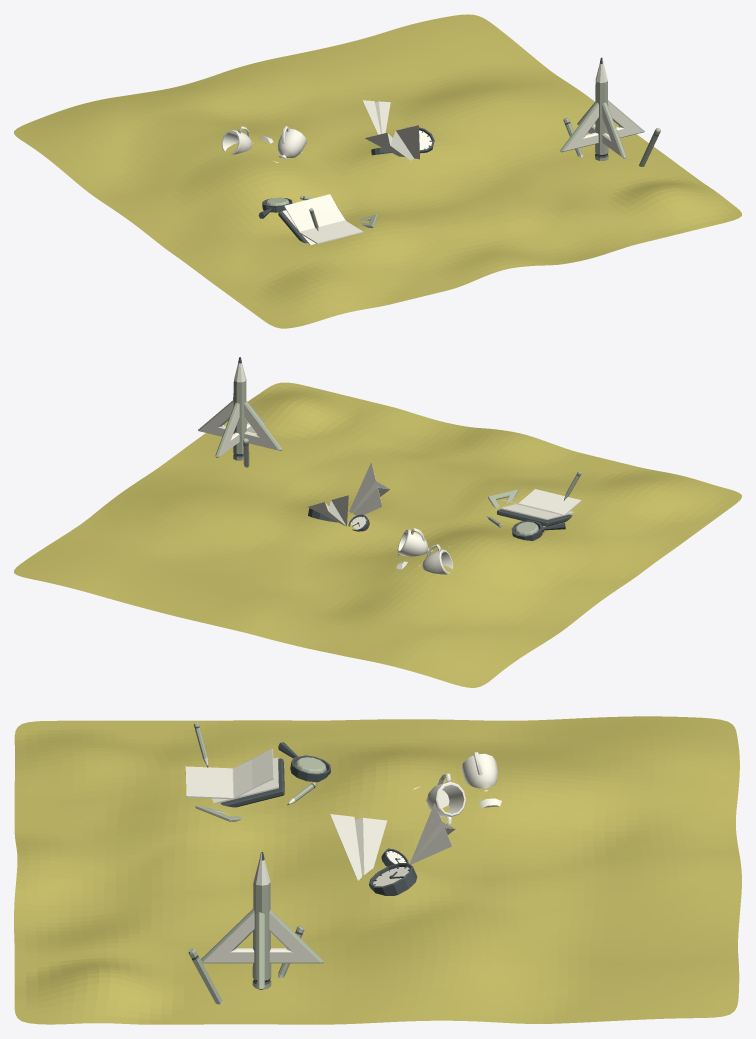
3 views of the same model, one above another, from view 1: azimuth 30°, elevation 25°; view 2: azimuth 150°, elevation 25°; view 3: azimuth 270°, elevation 25° (orthographic). The views are drawn at different scales.
Visible parts, largest first — view 1: level2_ground.002, Cube.021, Plane.015, PaperFly.002, Pen, Plane.016, award.003, award.004, PaperFly.003; view 2: level2_ground.002, Cube.021, Plane.015, PaperFly.002, Pen, Plane.016, award.004, award.003, glass.001, PaperFly.003; view 3: level2_ground.002, Cube.021, Plane.016, PaperFly.002, Pen, award.004, PaperFly.003, award.003, Cylinder, glass.001, Cube.020, Plane.015 (+1 smaller).
Boxes of the visible parts, <box> form: level2_ground.002: <box>14,14,741,328</box>; Cube.021: <box>282,194,363,244</box>; Plane.015: <box>560,100,644,152</box>; PaperFly.002: <box>364,125,419,160</box>; Pen: <box>595,57,608,160</box>; Plane.016: <box>577,102,626,158</box>; award.003: <box>273,126,306,162</box>; award.004: <box>221,126,273,154</box>; PaperFly.003: <box>362,100,390,134</box>; level2_ground.002: <box>14,382,741,687</box>; Cube.021: <box>500,489,581,519</box>; Plane.015: <box>198,400,282,450</box>; PaperFly.002: <box>349,462,389,515</box>; Pen: <box>233,357,246,460</box>; Plane.016: <box>215,401,264,457</box>; award.004: <box>396,544,453,574</box>; award.003: <box>397,528,449,556</box>; glass.001: <box>511,520,565,540</box>; PaperFly.003: <box>307,495,348,526</box>; level2_ground.002: <box>14,716,741,1024</box>; Cube.021: <box>185,748,278,803</box>; Plane.016: <box>201,909,323,963</box>; PaperFly.002: <box>330,814,386,880</box>; Pen: <box>252,852,271,989</box>; award.004: <box>462,752,501,807</box>; PaperFly.003: <box>410,803,455,864</box>; award.003: <box>413,773,466,824</box>; Cylinder: <box>369,863,417,895</box>; glass.001: <box>278,742,330,782</box>; Cube.020: <box>221,758,284,807</box>; Plane.015: <box>257,912,264,989</box>.
Size of the model in its own units: 5203 by 1197 by 5269.
